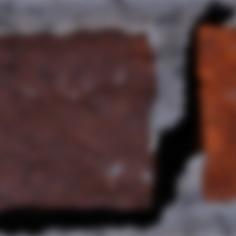brick: (0, 27, 156, 209), (197, 26, 235, 201)
crack: (0, 0, 235, 235)
